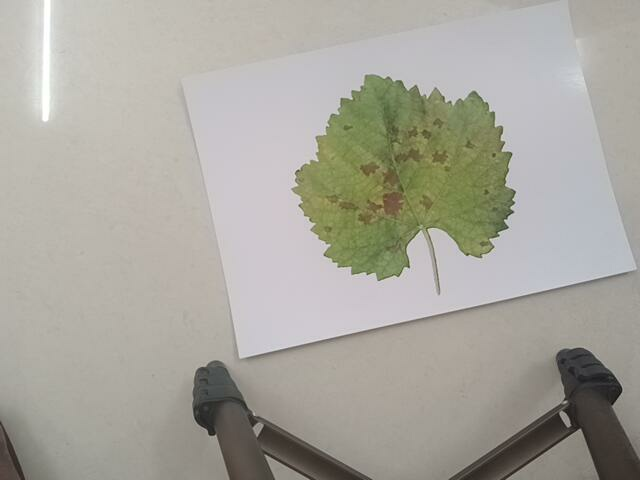Grape_Leaf_Vine_Disease: (281, 58, 550, 296)
